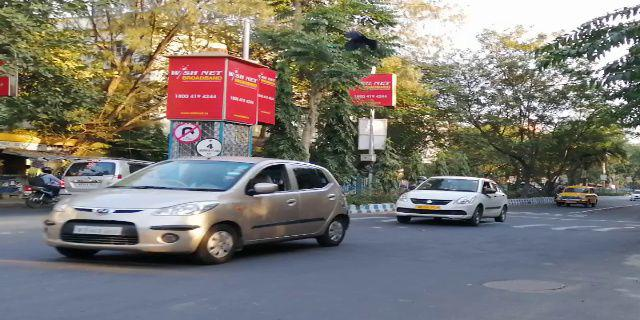Car: (43, 152, 352, 266), (394, 173, 513, 231), (553, 180, 599, 212)
